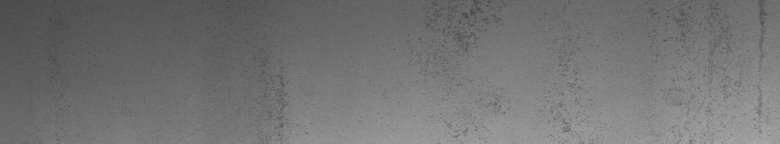ib: (425, 4, 584, 136)
